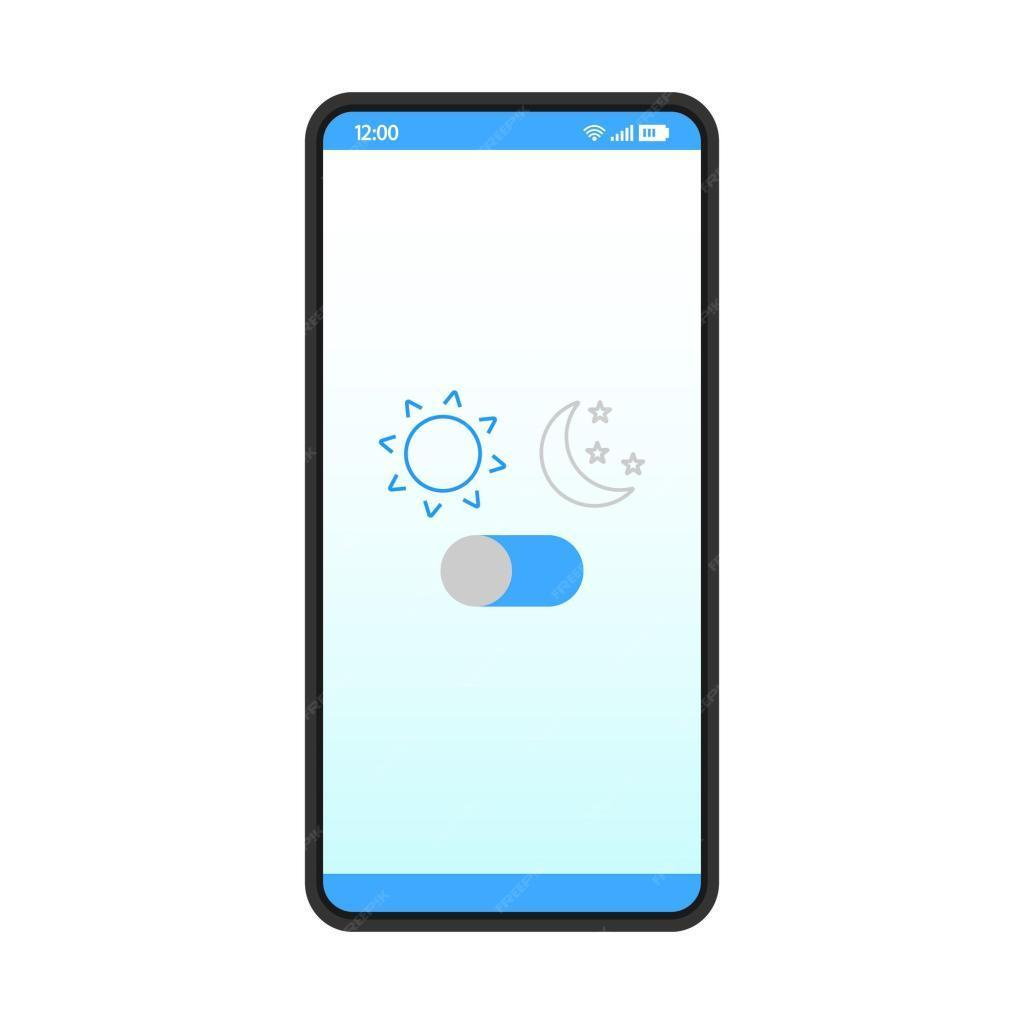switch: (427, 526, 592, 616)
